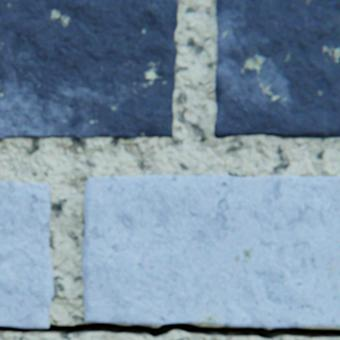brick: (82, 175, 339, 327), (0, 0, 177, 139), (213, 0, 339, 139), (0, 182, 54, 327)
crack: (0, 322, 339, 339)
